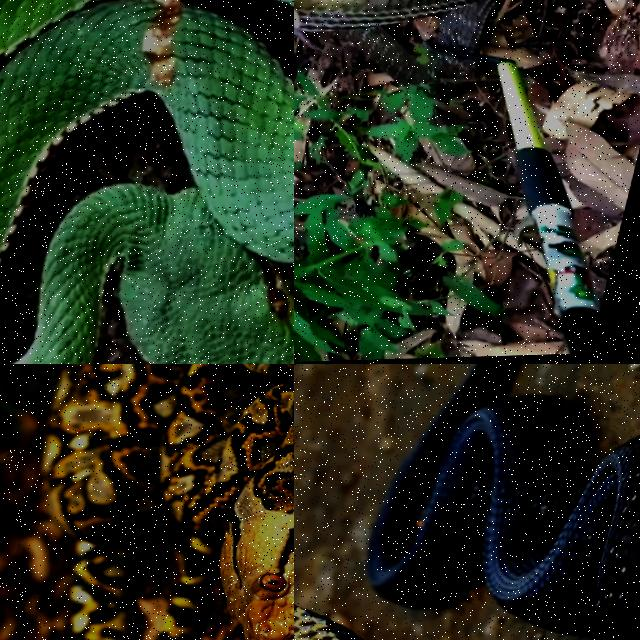Malayopython reticulatus: (44, 364, 293, 639)
Ophiophagus hannah: (368, 364, 639, 639), (294, 0, 499, 98)
Trimeresurus: (0, 0, 293, 363)
snake: (0, 0, 293, 363), (368, 364, 639, 639), (44, 364, 293, 639), (294, 0, 499, 98)
